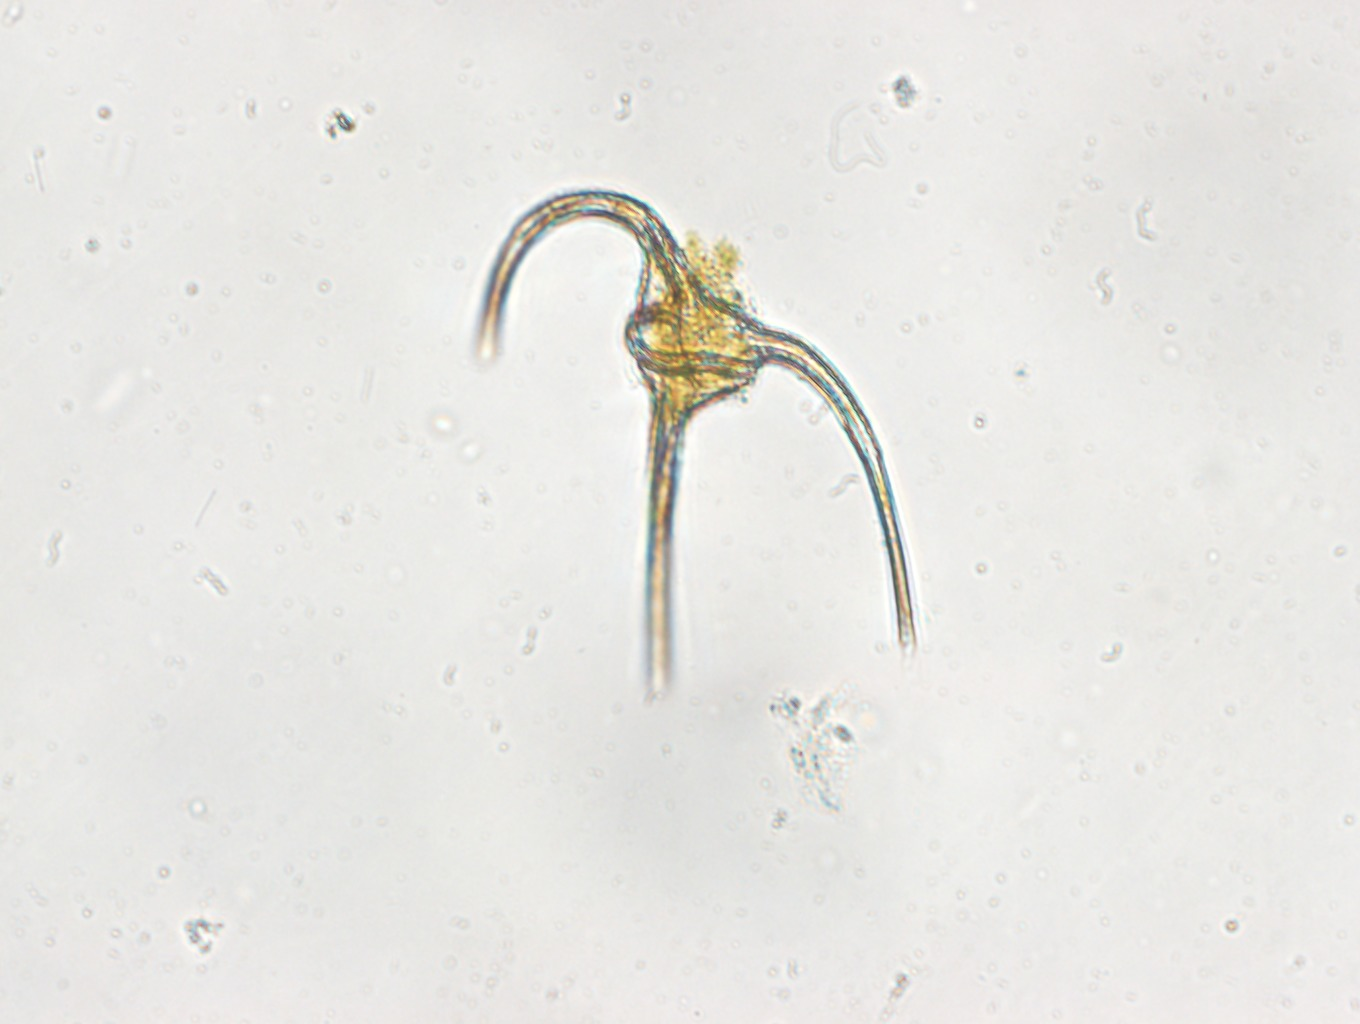ceratium trichoceros: (466, 177, 924, 714)
